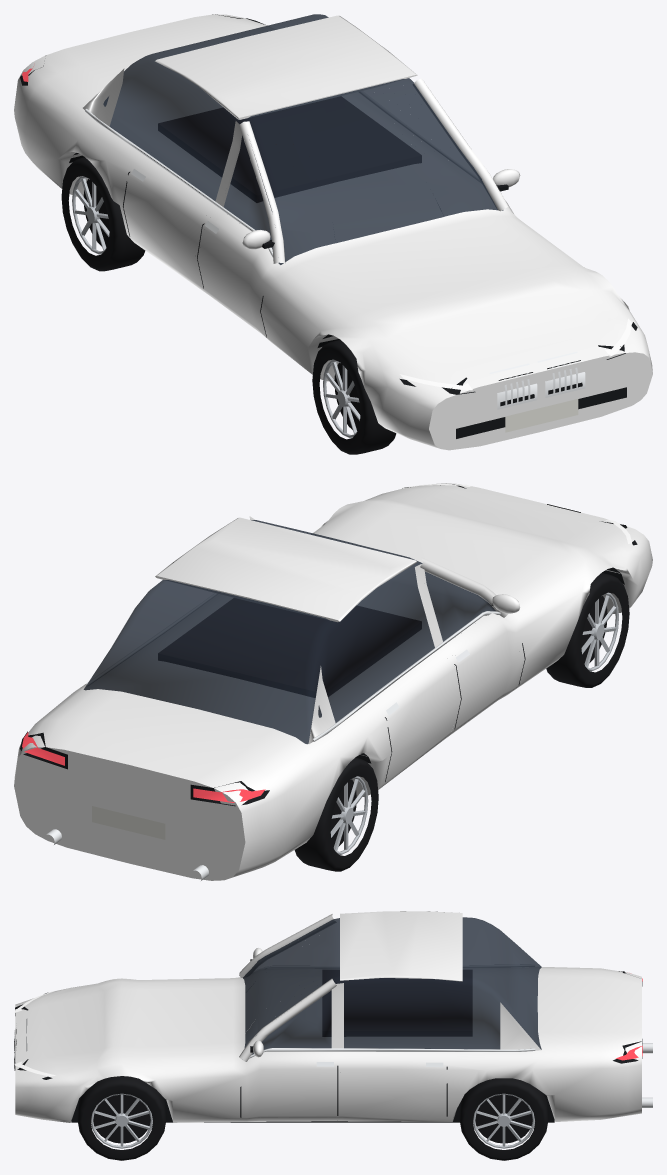
Rendered from bmw_5_g60.lod.glb.
The picture shows the model from 3 angles, top to bottom: view 1: azimuth 30°, elevation 25°; view 2: azimuth 150°, elevation 25°; view 3: azimuth 270°, elevation 25°; orthographic projection. The views are drawn at different scales.
Visible parts, largest first — view 1: body_paint, body_glass, body_trim, door_glass (×2), tire (×2), door_paint, body_chrome, rim (×2), headlights; view 2: body_paint, body_glass, body_trim, tire (×2), door_paint, rim (×2), door_glass, body_chrome, taillights; view 3: body_paint, body_glass, body_trim, door_paint, tire (×2), door_glass (×2), rim_back (×2), rim (×2), body_chrome.
Part boxes in pixels (x1,y1,x2,y2): body_paint: (14,14,652,450); body_glass: (103,14,460,243); body_trim: (20,14,637,438); door_glass (×2): (223,84,503,264); tire (×2): (61,157,396,454); door_paint: (195,127,278,339); body_chrome: (85,91,585,409); rim (×2): (72,176,360,438); headlights: (400,318,631,390); body_paint: (14,483,652,880); body_glass: (83,520,434,744); body_trim: (20,484,637,839); tire (×2): (294,573,629,871); door_paint: (421,559,520,737); rim (×2): (330,592,618,855); door_glass: (412,558,495,641); body_chrome: (46,593,500,880); taillights: (22,732,265,802); body_paint: (15,911,641,1122); body_glass: (245,917,541,1049); body_trim: (14,970,642,1122); door_paint: (242,982,341,1121); tire (×2): (77,1076,548,1160); door_glass (×2): (243,919,332,1054); rim_back (×2): (93,1094,532,1143); rim (×2): (91,1093,534,1148); body_chrome: (14,965,652,1107).
Size of the model in its own units: 1.97 by 1.52 by 5.16.
